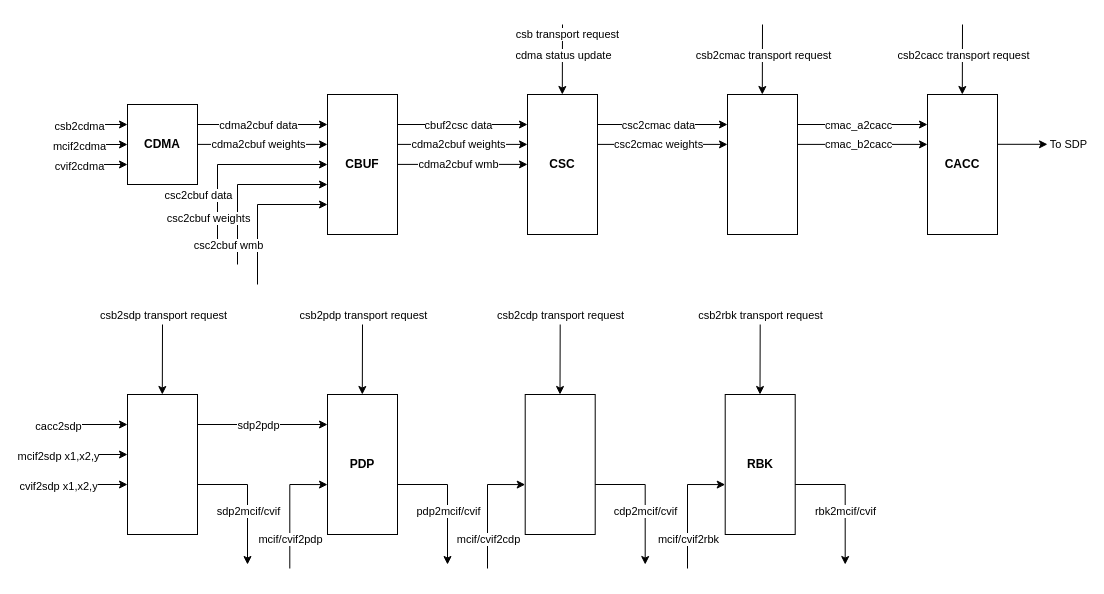
The diagram is 1104 pixels wide and 594 high, and some of its shapes have lost their labels. Each missing label, with the centre of its shape:
CDP: the point at 559,464
CMAC: the point at 762,164
SDP: the point at 162,464
